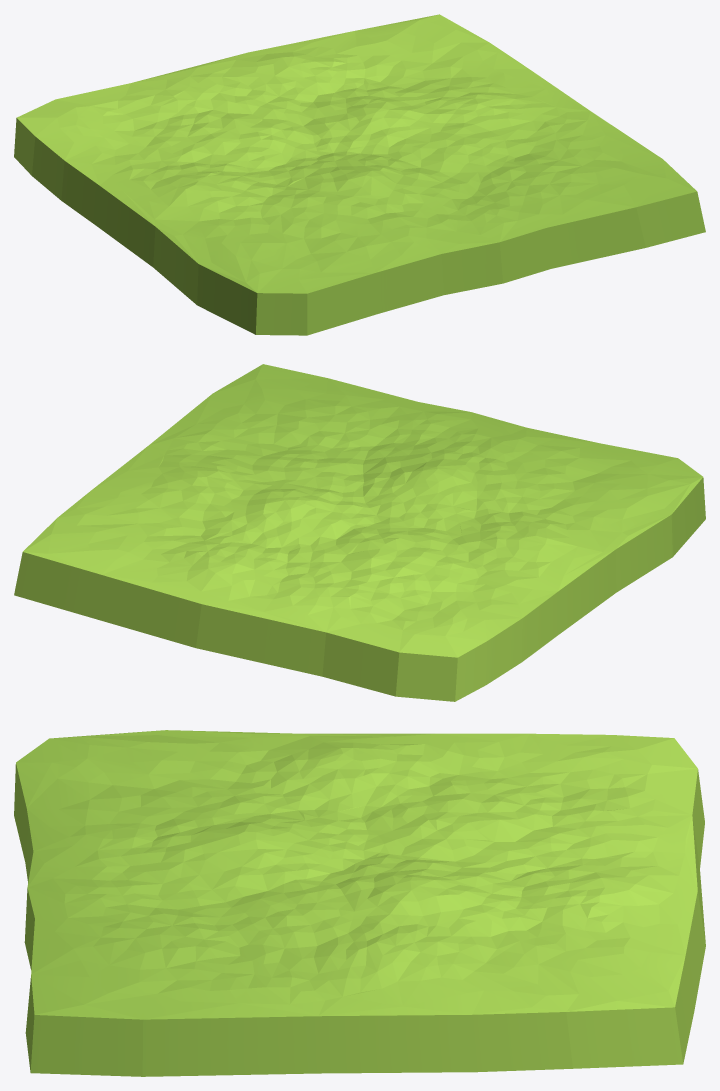
Rendered from rand.gltf.
3 views of the same model, one above another, from view 1: azimuth 30°, elevation 25°; view 2: azimuth 150°, elevation 25°; view 3: azimuth 270°, elevation 25° (orthographic). The views are drawn at different scales.
Parts seen in each view (by area): view 1: PP_Meadow_08.001; view 2: PP_Meadow_08.001; view 3: PP_Meadow_08.001.
Part boxes in pixels (x1,y1,x2,y2): PP_Meadow_08.001: (14, 14, 705, 335); PP_Meadow_08.001: (14, 364, 705, 701); PP_Meadow_08.001: (14, 730, 705, 1076).
Size of the model in its own units: 23.6 by 2.92 by 23.48.
1 material, 1 textured.
